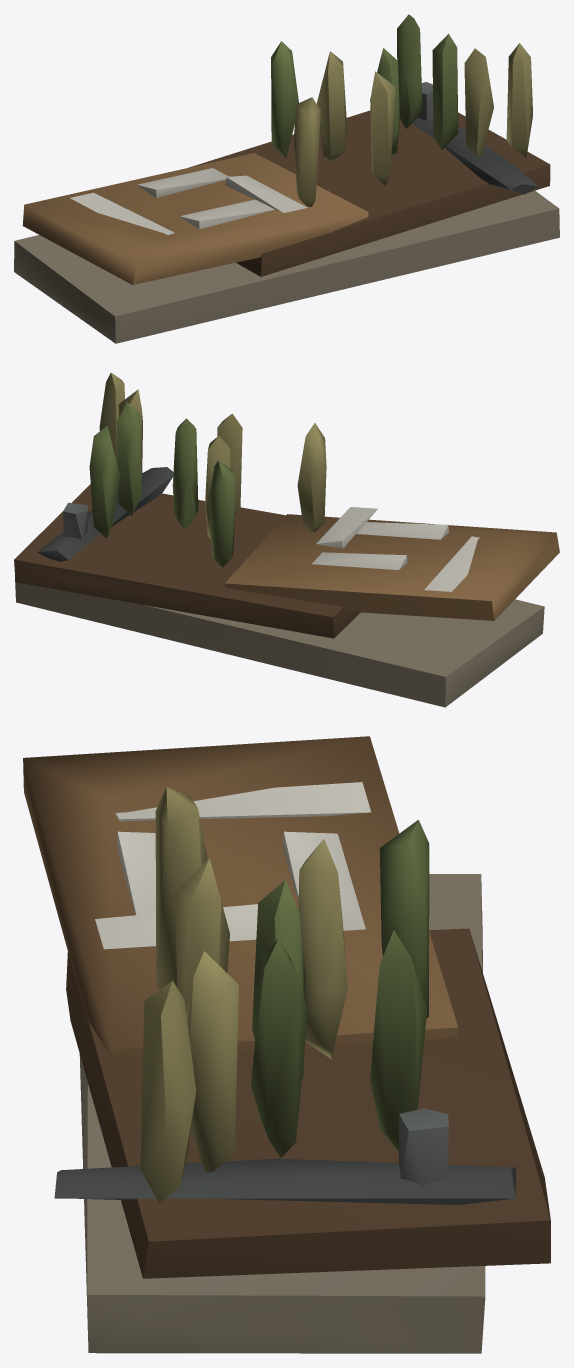
File: bent_numbers_b_lod2.glb
3 renders of one model, top to bottom at view 1: azimuth 30°, elevation 25°; view 2: azimuth 150°, elevation 25°; view 3: azimuth 270°, elevation 25°, orthographic. The views are drawn at different scales.
Parts seen in each view (by area): view 1: Surface.001; view 2: Surface.001; view 3: Surface.001.
Part boxes in pixels (x1,y1,x2,y2): Surface.001: [14, 14, 559, 343]; Surface.001: [14, 372, 559, 707]; Surface.001: [23, 736, 550, 1353].
Bounding box in the file's own units: 2.28 × 0.8511 × 1.14.
